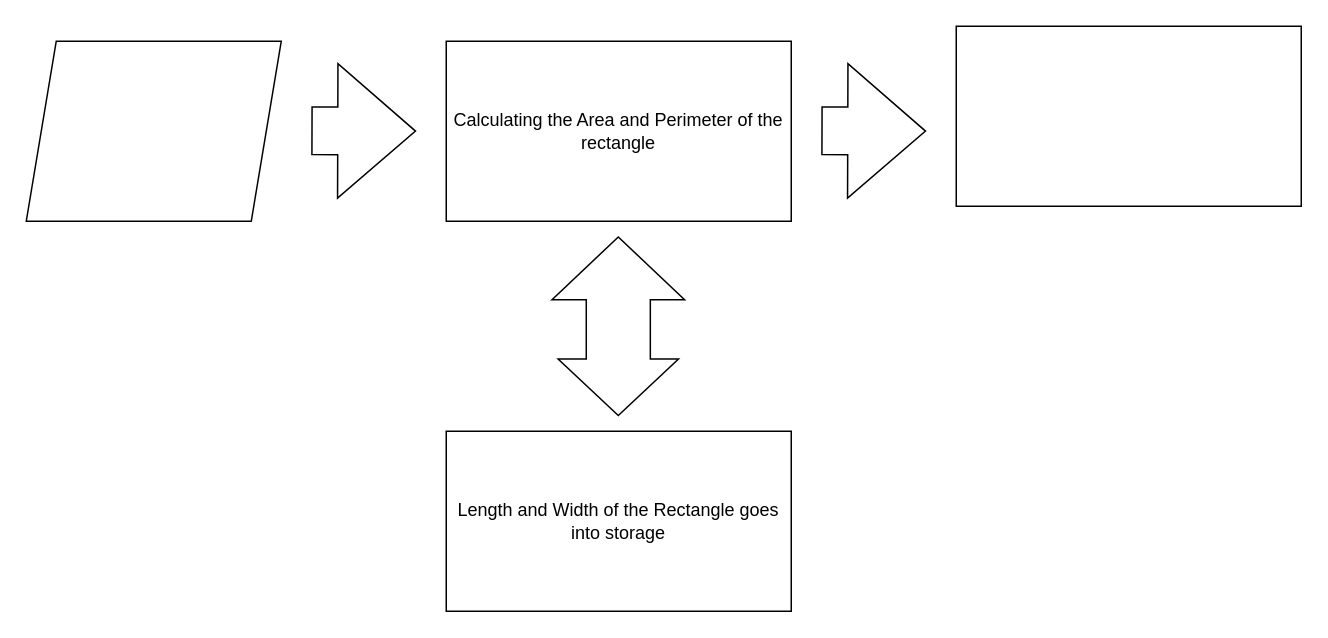
The diagram is 1328 pixels wide and 638 high, and some of its shapes have lost their labels. Each missing label, with the centre of its shape:
"Area and Perimeter of a Rectangle is calculated" belongs at point (1128, 115).
"Length and Width of a rectangle" belongs at point (153, 130).
